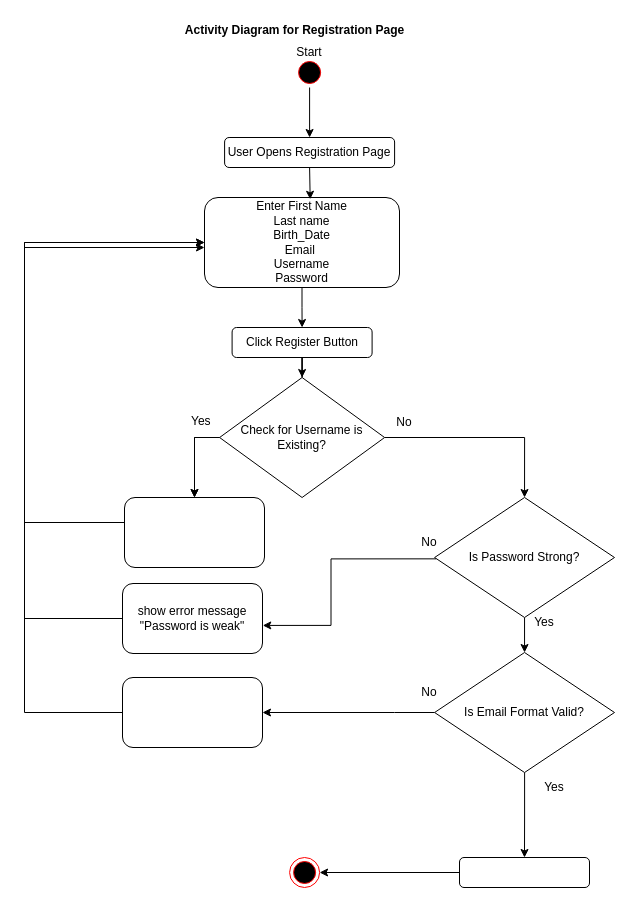
Some shapes in this 632 by 905 pixel diagram are drawn without their labels. Each missing label, with the centre of its shape:
Redirect to login page: [524,872]
show error message "username is already exists in the system, try another one": [194,532]
show error message "Wrong Email Format": [192,712]
